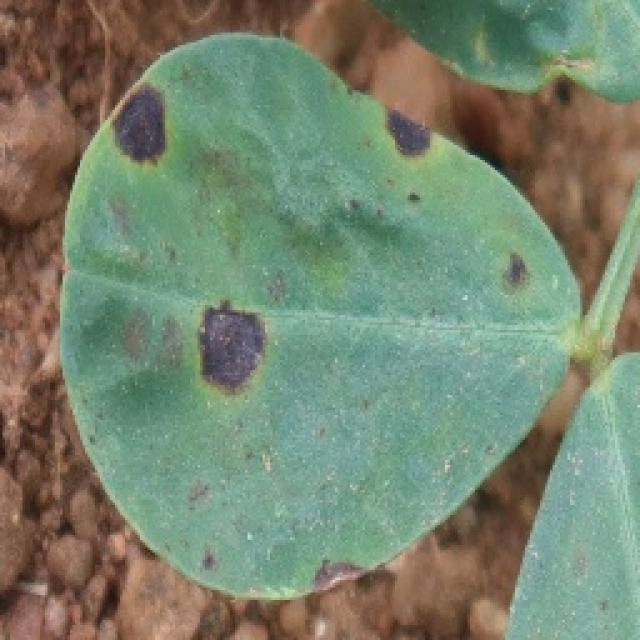Yellowish: (212, 504, 414, 620), (151, 268, 320, 405), (80, 70, 190, 198), (339, 94, 462, 194), (449, 228, 562, 308)
